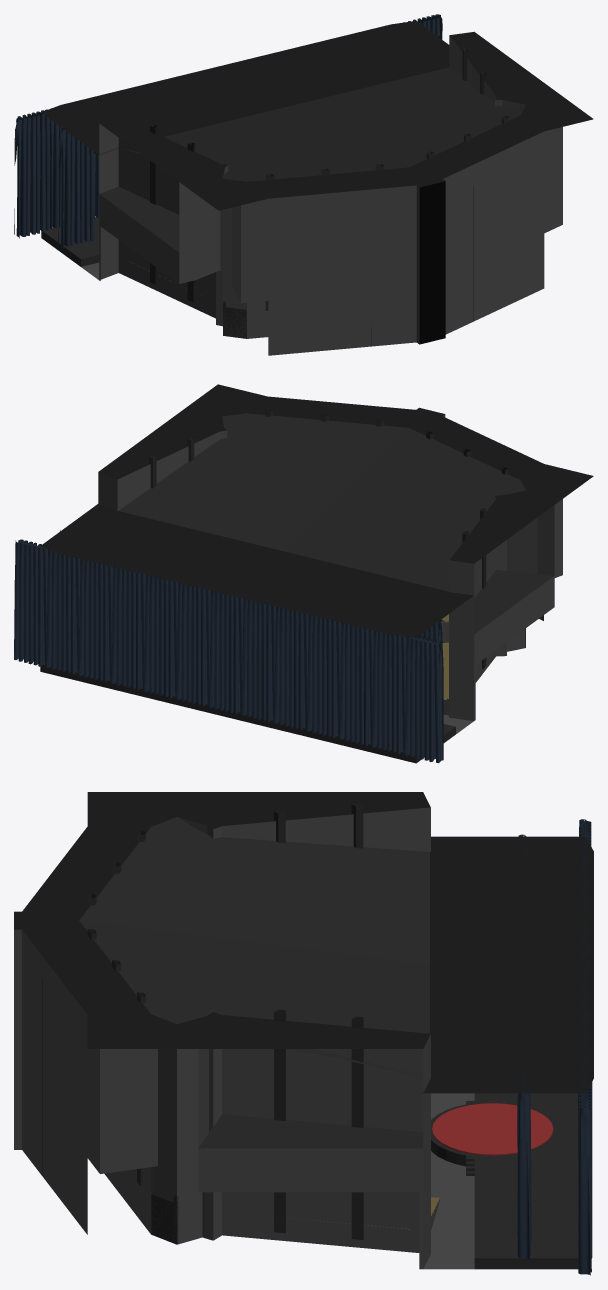
File: Stage_Medium.fbx
3 views of the same model, one above another, from view 1: azimuth 30°, elevation 25°; view 2: azimuth 150°, elevation 25°; view 3: azimuth 270°, elevation 25° (orthographic). The views are drawn at different scales.
Visible parts, largest first — view 1: Base, Curtain_Static.012, Curtain_Static.011, Curtain_Static.014; view 2: Base, Curtain_Static.012, Curtain_Static.009, Curtain_Static.014, Curtain_Static.005, Curtain_Static.008, Curtain_Static.002, Curtain_Static.000, Curtain_Static.003, Curtain_Static.006, Curtain_Static.010, Curtain_Static.001 (+2 smaller); view 3: Base, Curtain_Static.009, Curtain_Static.013.
Boxes of the visible parts, x1,y1,x2,y2 form: Base: (41,21,593,355); Curtain_Static.012: (14,109,51,238); Curtain_Static.011: (58,120,95,248); Curtain_Static.014: (49,101,81,229); Base: (40,384,593,763); Curtain_Static.012: (405,635,443,762); Curtain_Static.009: (14,539,50,667); Curtain_Static.014: (372,627,408,755); Curtain_Static.005: (79,556,115,683); Curtain_Static.008: (274,603,311,731); Curtain_Static.002: (176,579,213,707); Curtain_Static.000: (209,588,246,715); Curtain_Static.003: (111,564,148,691); Curtain_Static.006: (307,612,343,739); Curtain_Static.010: (46,547,83,675); Curtain_Static.001: (242,595,278,723); Base: (14,792,593,1269); Curtain_Static.009: (578,1086,592,1275); Curtain_Static.013: (517,1071,531,1259).
Size of the model in its own units: 5655 by 2082 by 4770.
